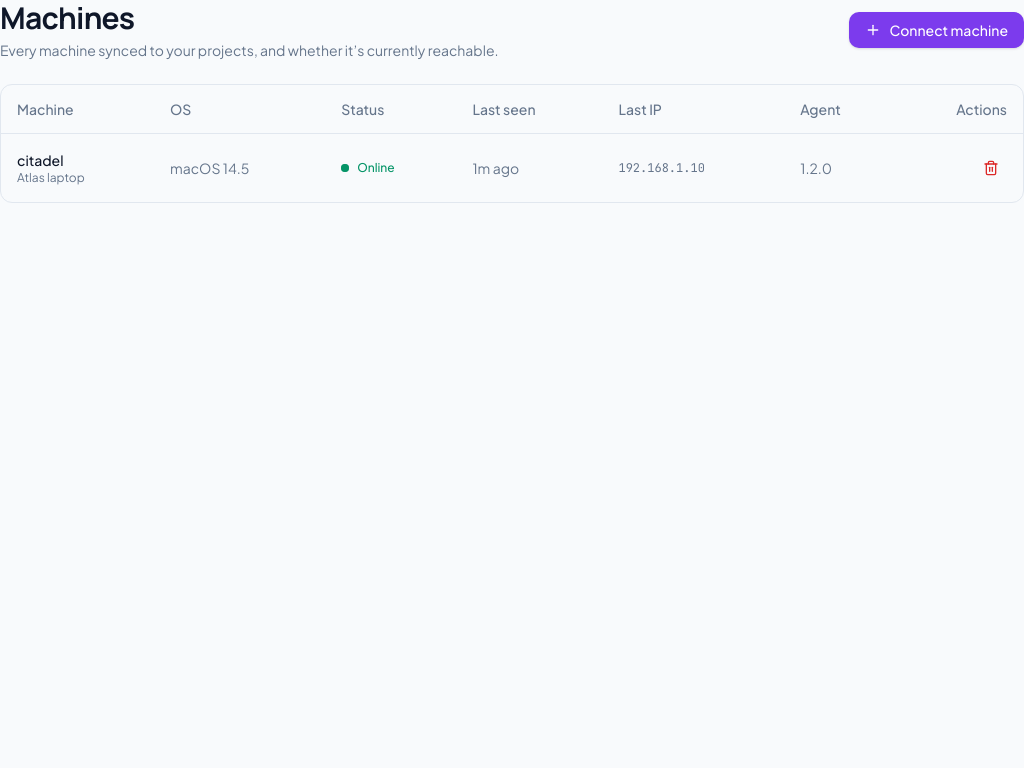
Test: Machines › opens the pair-machine dialog from the connect menu and generates a code
This screenshot has width=1024, height=768.
Expected: the text "citadel" is shown, top-left (17, 150), bottom-right (64, 168)
Press Enter in the button "Connect machine", box top-left (849, 12), bottom-right (1023, 48)
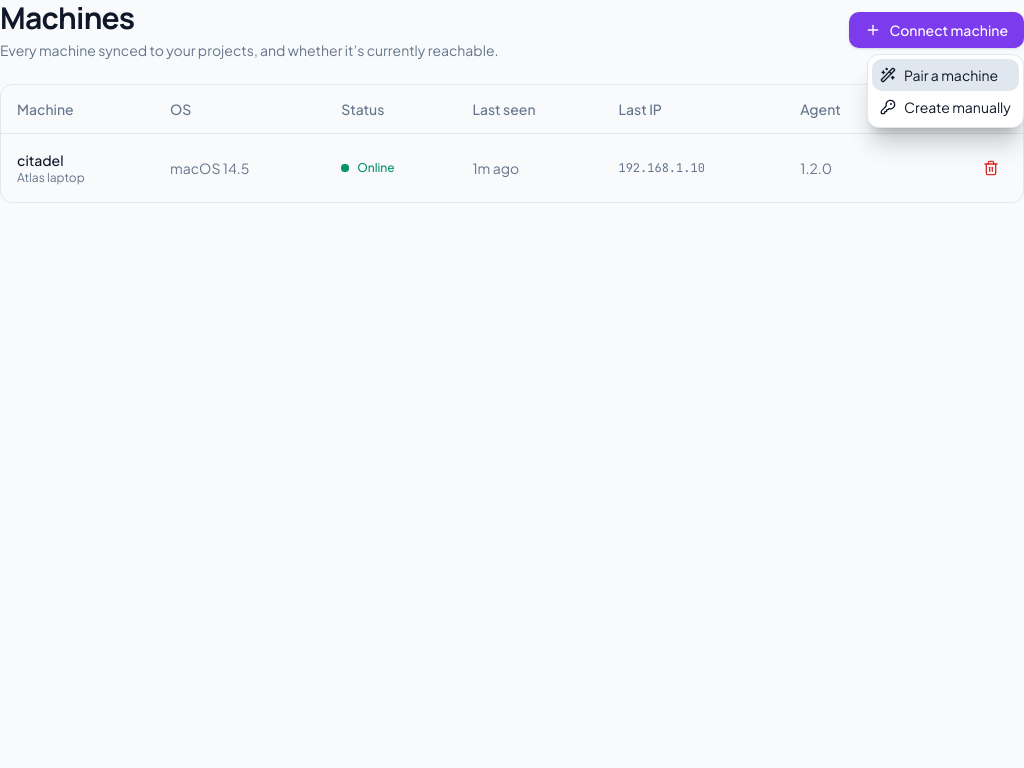
Click the menu item "Pair a machine" at (945, 75), box top-left (872, 59), bottom-right (1019, 91)
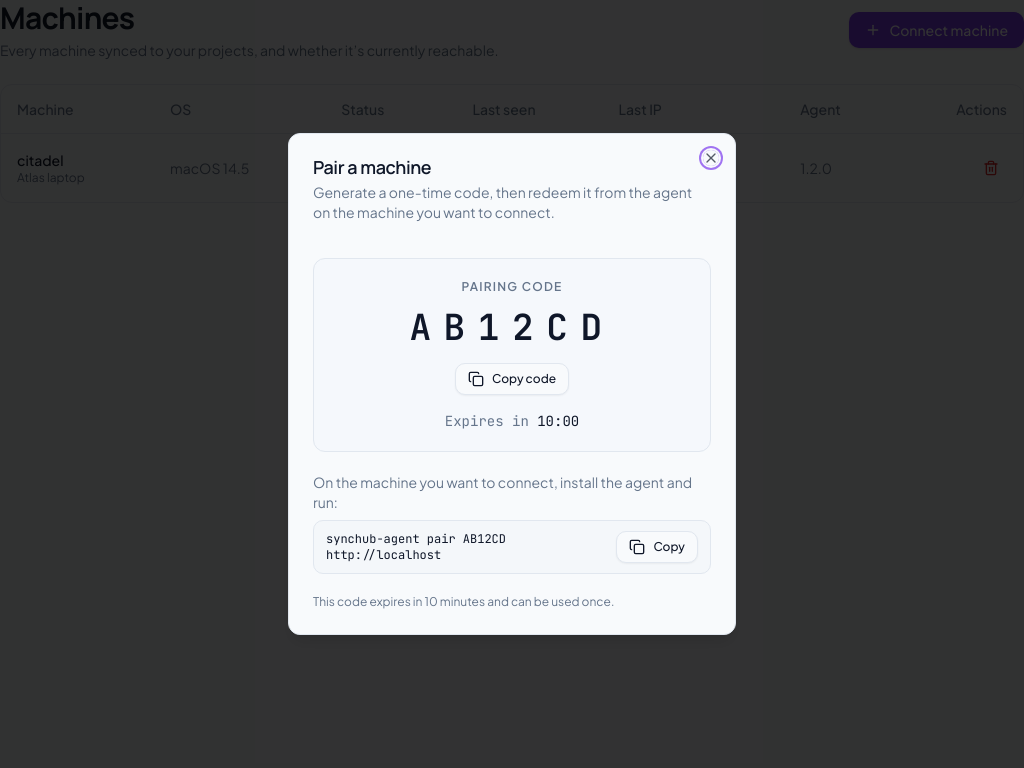
Now the text "AB12CD" is shown, box top-left (409, 303), bottom-right (615, 351)
